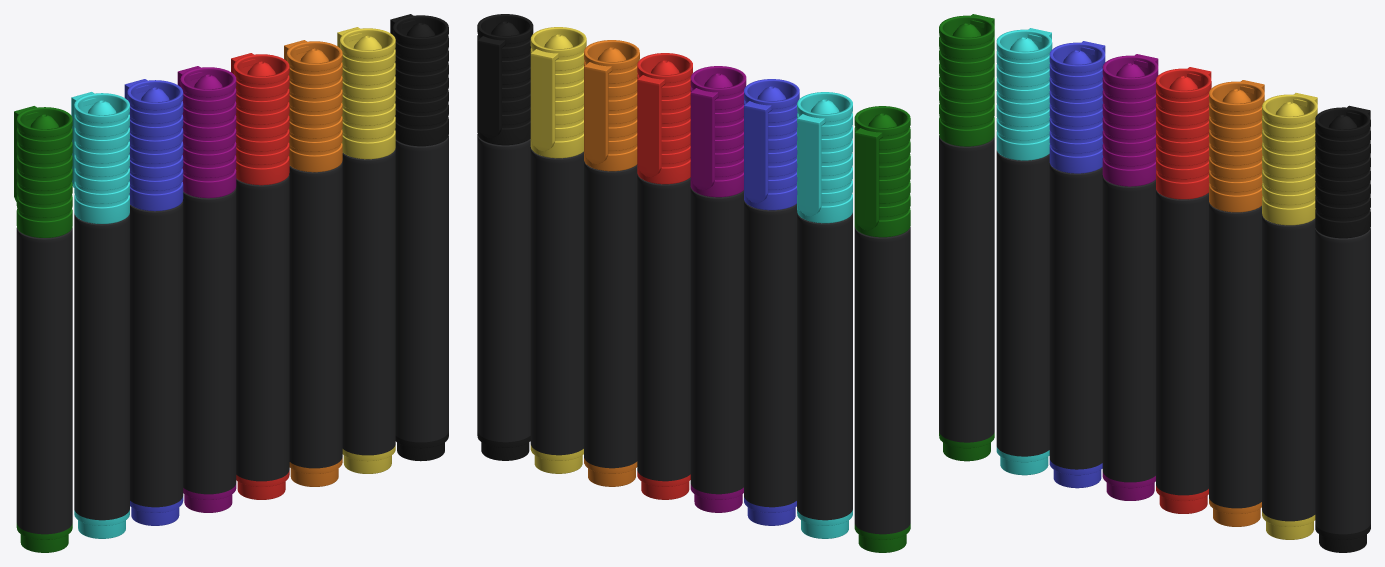
File: Markers.fbx
3 renders of one model, left to right at view 1: azimuth 30°, elevation 25°; view 2: azimuth 150°, elevation 25°; view 3: azimuth 330°, elevation 25°, orthographic.
Visible parts, largest first — view 1: Green, Teal, Yellow, Magenta, Orange, marker.blue, Black, Red; view 2: Green, Teal, Magenta, Yellow, Black, Red, Orange, marker.blue; view 3: Green, Black, marker.blue, Magenta, Teal, Yellow, Red, Orange.
Boxes of the visible parts, x1=… form: Green: x1=14, y1=106, x2=72, y2=552; Teal: x1=71, y1=92, x2=129, y2=538; Yellow: x1=337, y1=27, x2=395, y2=473; Magenta: x1=177, y1=66, x2=236, y2=512; Orange: x1=284, y1=40, x2=342, y2=486; marker.blue: x1=124, y1=79, x2=183, y2=525; Black: x1=390, y1=14, x2=448, y2=461; Red: x1=231, y1=53, x2=289, y2=499; Green: x1=854, y1=106, x2=910, y2=552; Teal: x1=797, y1=92, x2=852, y2=538; Magenta: x1=690, y1=66, x2=746, y2=512; Yellow: x1=530, y1=27, x2=586, y2=473; Black: x1=477, y1=14, x2=533, y2=460; Red: x1=637, y1=53, x2=692, y2=499; Orange: x1=584, y1=40, x2=639, y2=486; marker.blue: x1=744, y1=79, x2=799, y2=525; Green: x1=939, y1=14, x2=994, y2=461; Black: x1=1315, y1=105, x2=1370, y2=552; marker.blue: x1=1049, y1=41, x2=1105, y2=488; Magenta: x1=1102, y1=54, x2=1158, y2=500; Teal: x1=996, y1=28, x2=1052, y2=475; Yellow: x1=1262, y1=93, x2=1317, y2=539; Red: x1=1156, y1=67, x2=1211, y2=513; Orange: x1=1209, y1=80, x2=1264, y2=526.
Size of the model in its own units: 140 by 137 by 18.87.
